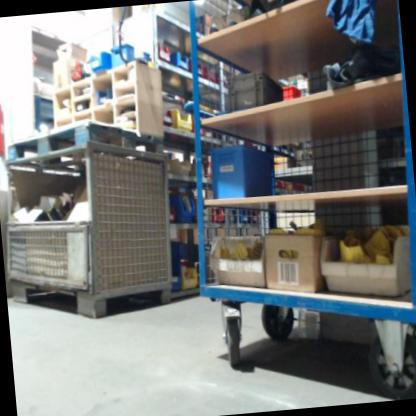small_load_carrier: (204, 139, 274, 201), (222, 71, 284, 114)
stillage: (0, 137, 187, 340)
